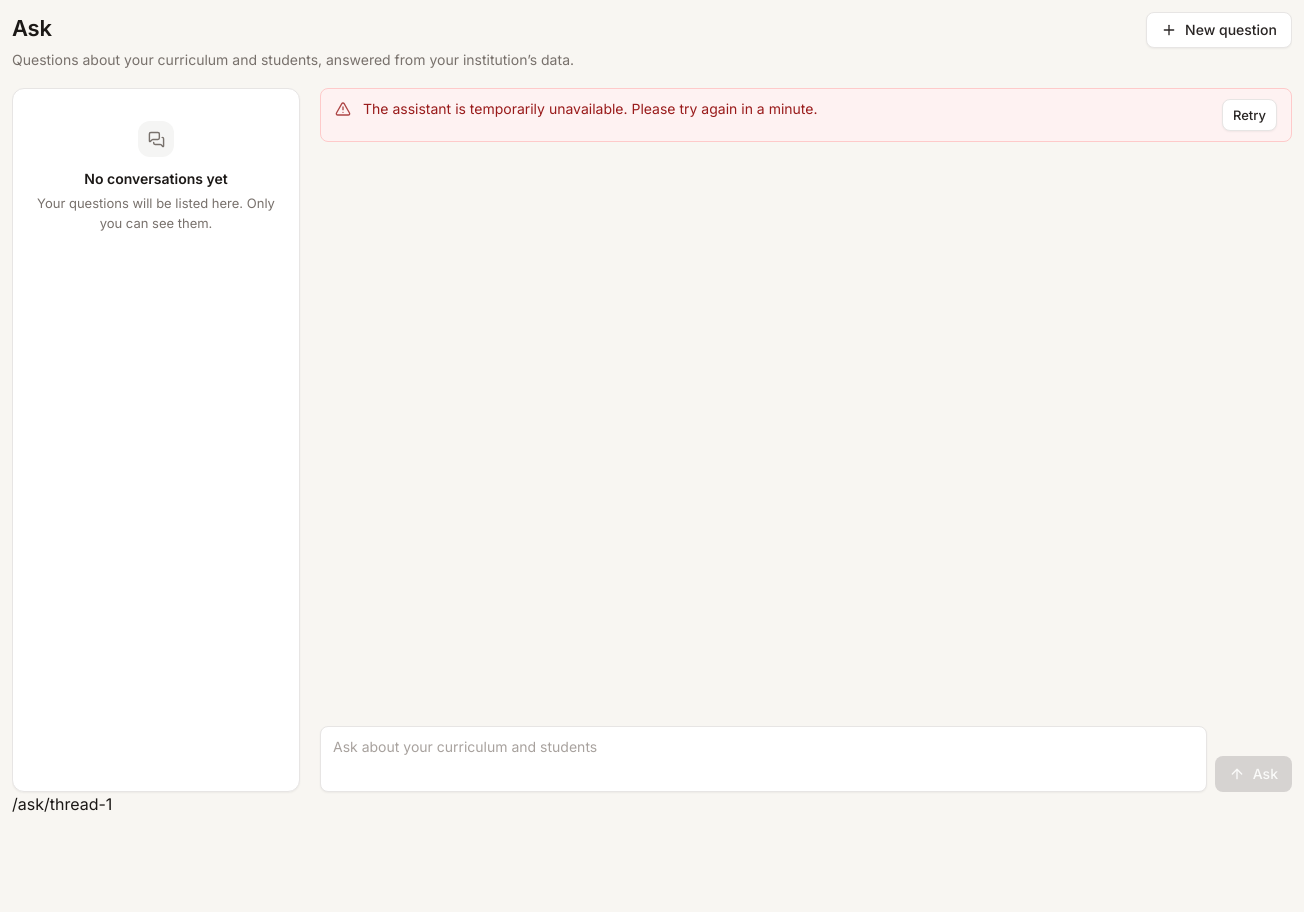
reopening a thread › offers to retry a transcript that failed to load
What coordinates should you click on to do the following:
click the button "Retry"
I would click on:
 (1250, 115)
Its box is [1222, 99, 1277, 131].
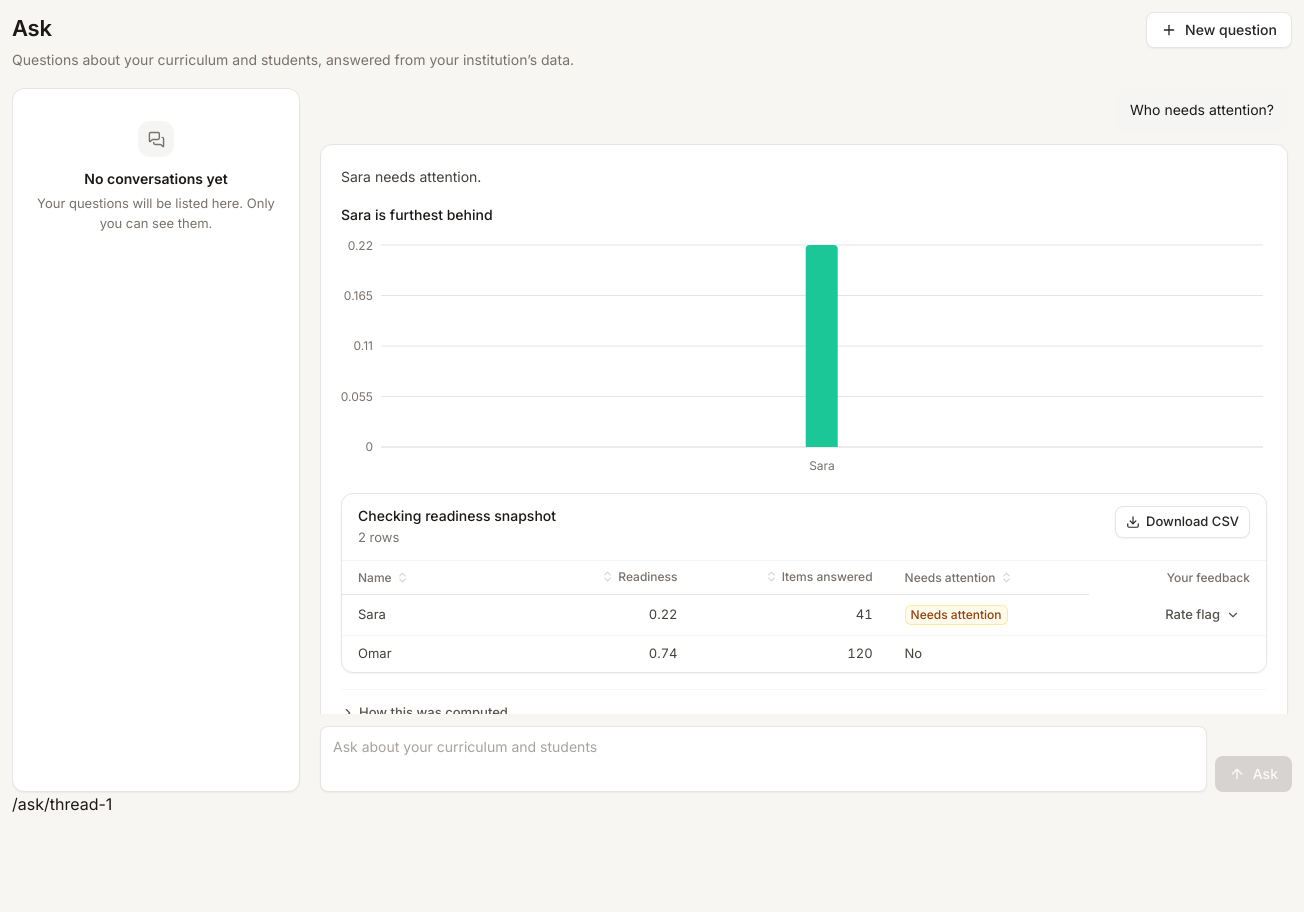
Expected: the text "Sara needs attention." is shown, [341, 168, 481, 185]
